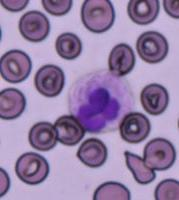N: (67, 69, 135, 134)
